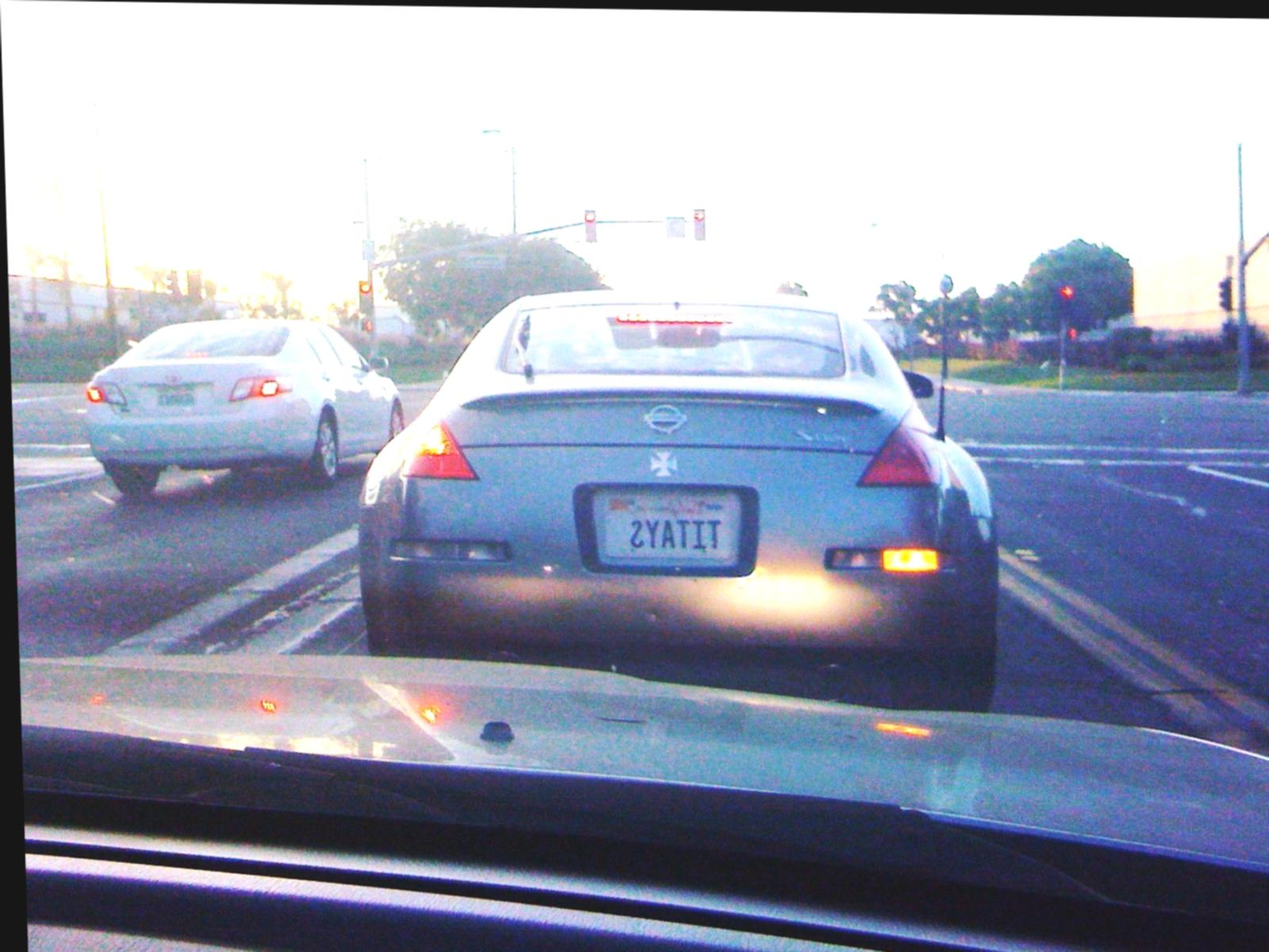License_Plate: (581, 480, 751, 579), (143, 373, 206, 416)
